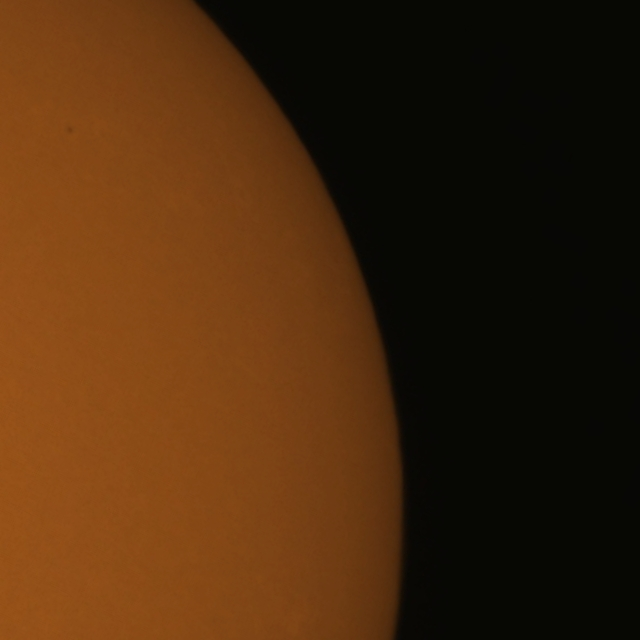sunspot: (64, 124, 75, 136)
